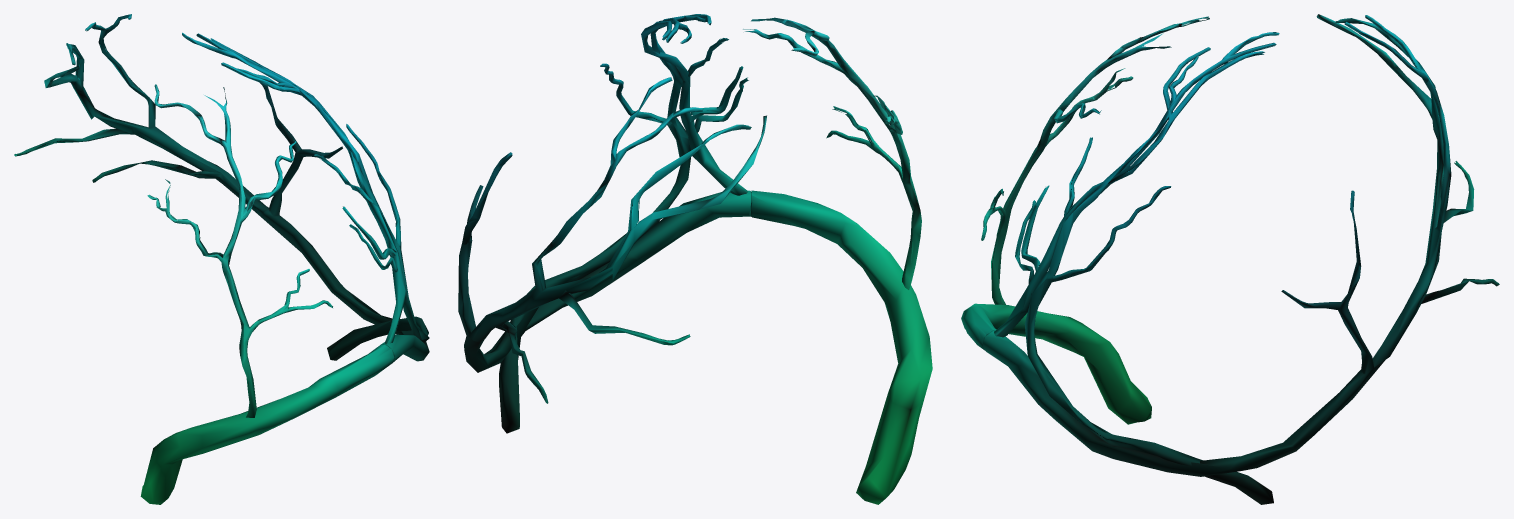
File: zeometry-organic-forms-vein-cage_v1.fbx
The picture shows the model from 3 angles, left to right: view 1: azimuth 30°, elevation 25°; view 2: azimuth 150°, elevation 25°; view 3: azimuth 270°, elevation 25°; orthographic projection. The views are drawn at different scales.
Visible parts, largest first — view 1: Vein Cage; view 2: Vein Cage; view 3: Vein Cage.
Boxes of the visible parts, left/top/right/bottom form: Vein Cage: left=14, top=14, right=429, bottom=504; Vein Cage: left=458, top=14, right=932, bottom=504; Vein Cage: left=961, top=14, right=1499, bottom=504.
Bounding box in the file's own units: 0.3472 × 0.452 × 0.5.
